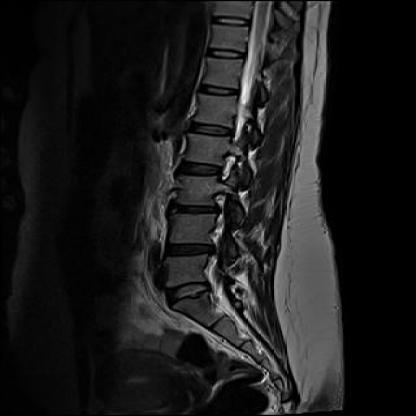Disc Bulgerotation: (159, 236, 220, 263), (158, 277, 218, 304), (162, 200, 222, 224)
